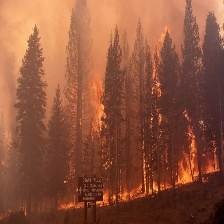fire: (60, 122, 223, 215), (79, 75, 119, 134), (152, 25, 170, 130)
smoke: (3, 3, 223, 102)
